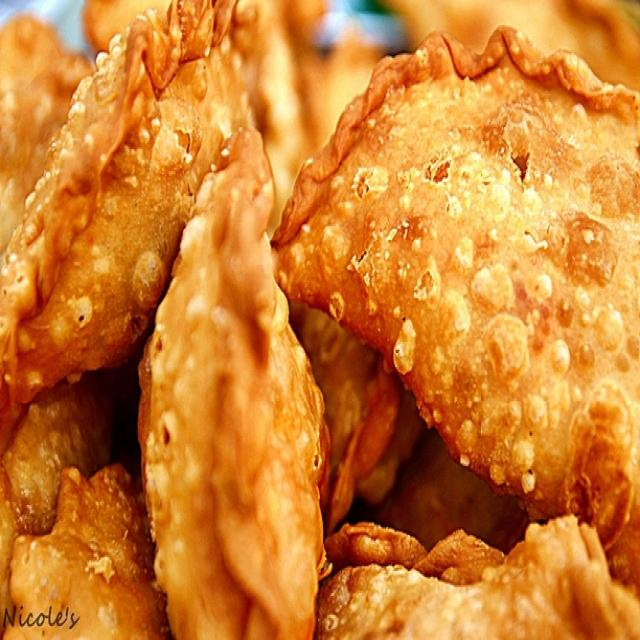炸货点心: (12, 16, 621, 618)
